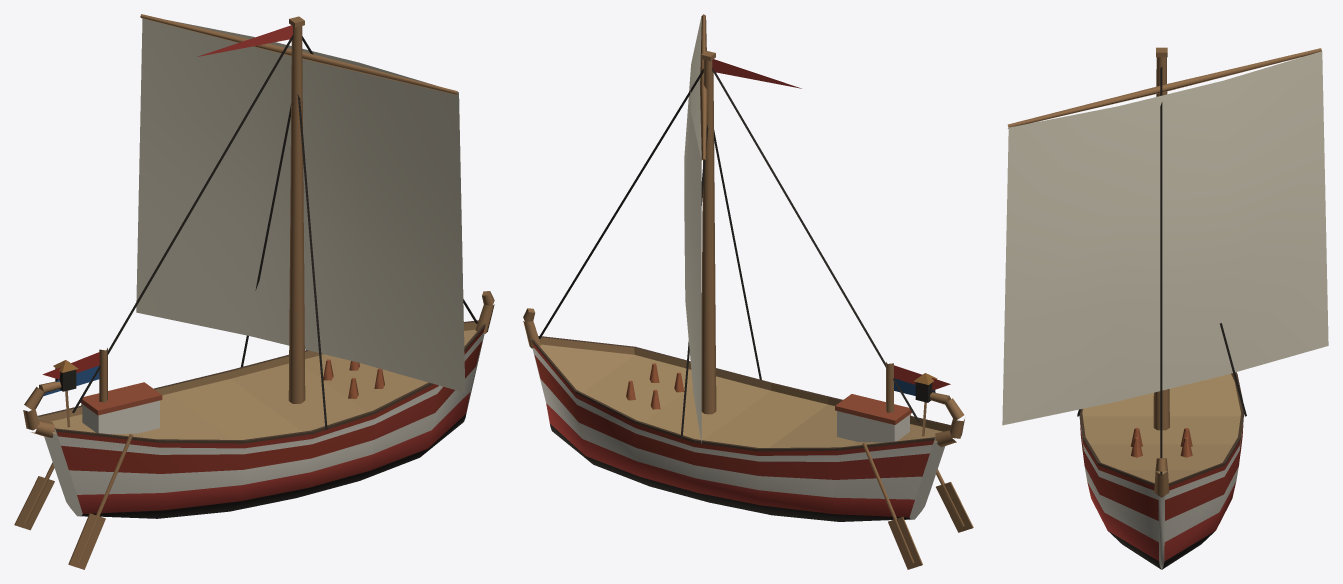
The model's file is hull_usd_coaster_small.glb.
3 renders of one model, left to right at view 1: azimuth 30°, elevation 25°; view 2: azimuth 150°, elevation 25°; view 3: azimuth 270°, elevation 25°, orthographic. The views are drawn at different scales.
Visible parts, largest first — view 1: sail_main, hull, deck, mast, rigging, yards, flag; view 2: hull, deck, sail_main, mast, rigging, flag, yards; view 3: sail_main, hull, yards, rigging, mast, deck.
Boxes of the visible parts, bbox=[...] form: sail_main: bbox=[136, 18, 465, 392]; hull: bbox=[23, 291, 494, 518]; deck: bbox=[14, 359, 384, 569]; mast: bbox=[99, 16, 305, 403]; rigging: bbox=[72, 34, 477, 429]; yards: bbox=[140, 14, 457, 95]; flag: bbox=[42, 25, 292, 396]; hull: bbox=[523, 308, 964, 521]; deck: bbox=[626, 363, 973, 569]; sail_main: bbox=[684, 16, 701, 443]; mast: bbox=[701, 50, 893, 414]; rigging: bbox=[538, 68, 919, 438]; flag: bbox=[712, 59, 950, 395]; yards: bbox=[700, 14, 707, 160]; sail_main: bbox=[1002, 51, 1328, 425]; hull: bbox=[1079, 372, 1243, 569]; yards: bbox=[1007, 48, 1321, 128]; rigging: bbox=[1077, 67, 1246, 475]; mast: bbox=[1153, 47, 1169, 430]; deck: bbox=[1130, 427, 1192, 457].
Size of the model in its own units: 10.71 by 10.25 by 6.48.
